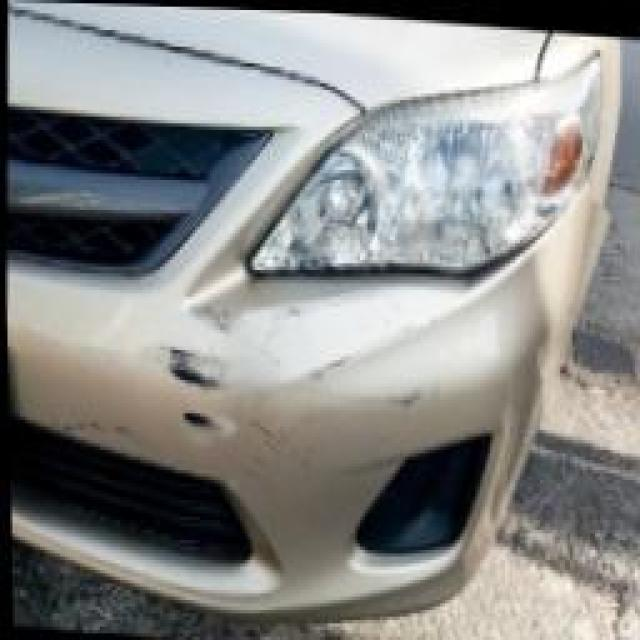Bumper: (38, 267, 440, 592)
